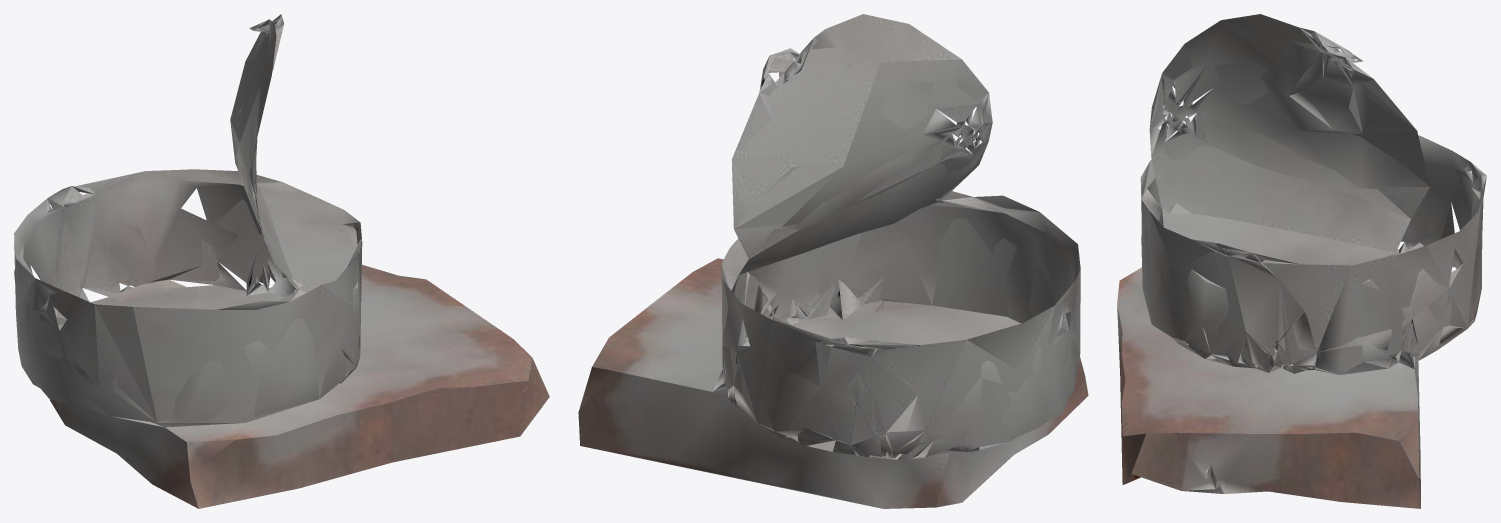
The model's file is rusty_tin_can_scan.glb.
The picture shows the model from 3 angles, left to right: view 1: azimuth 30°, elevation 25°; view 2: azimuth 150°, elevation 25°; view 3: azimuth 270°, elevation 25°; orthographic projection. The views are drawn at different scales.
Visible parts, largest first — view 1: rusty_tin_can_scan; view 2: rusty_tin_can_scan; view 3: rusty_tin_can_scan.
Part boxes in pixels (x1,y1,x2,y2): rusty_tin_can_scan: (14, 14, 549, 508); rusty_tin_can_scan: (578, 14, 1088, 508); rusty_tin_can_scan: (1117, 14, 1486, 508).
Size of what is drawn, in the model's own units: 0.1982 by 0.1825 by 0.1522.
1 material, 1 textured.
